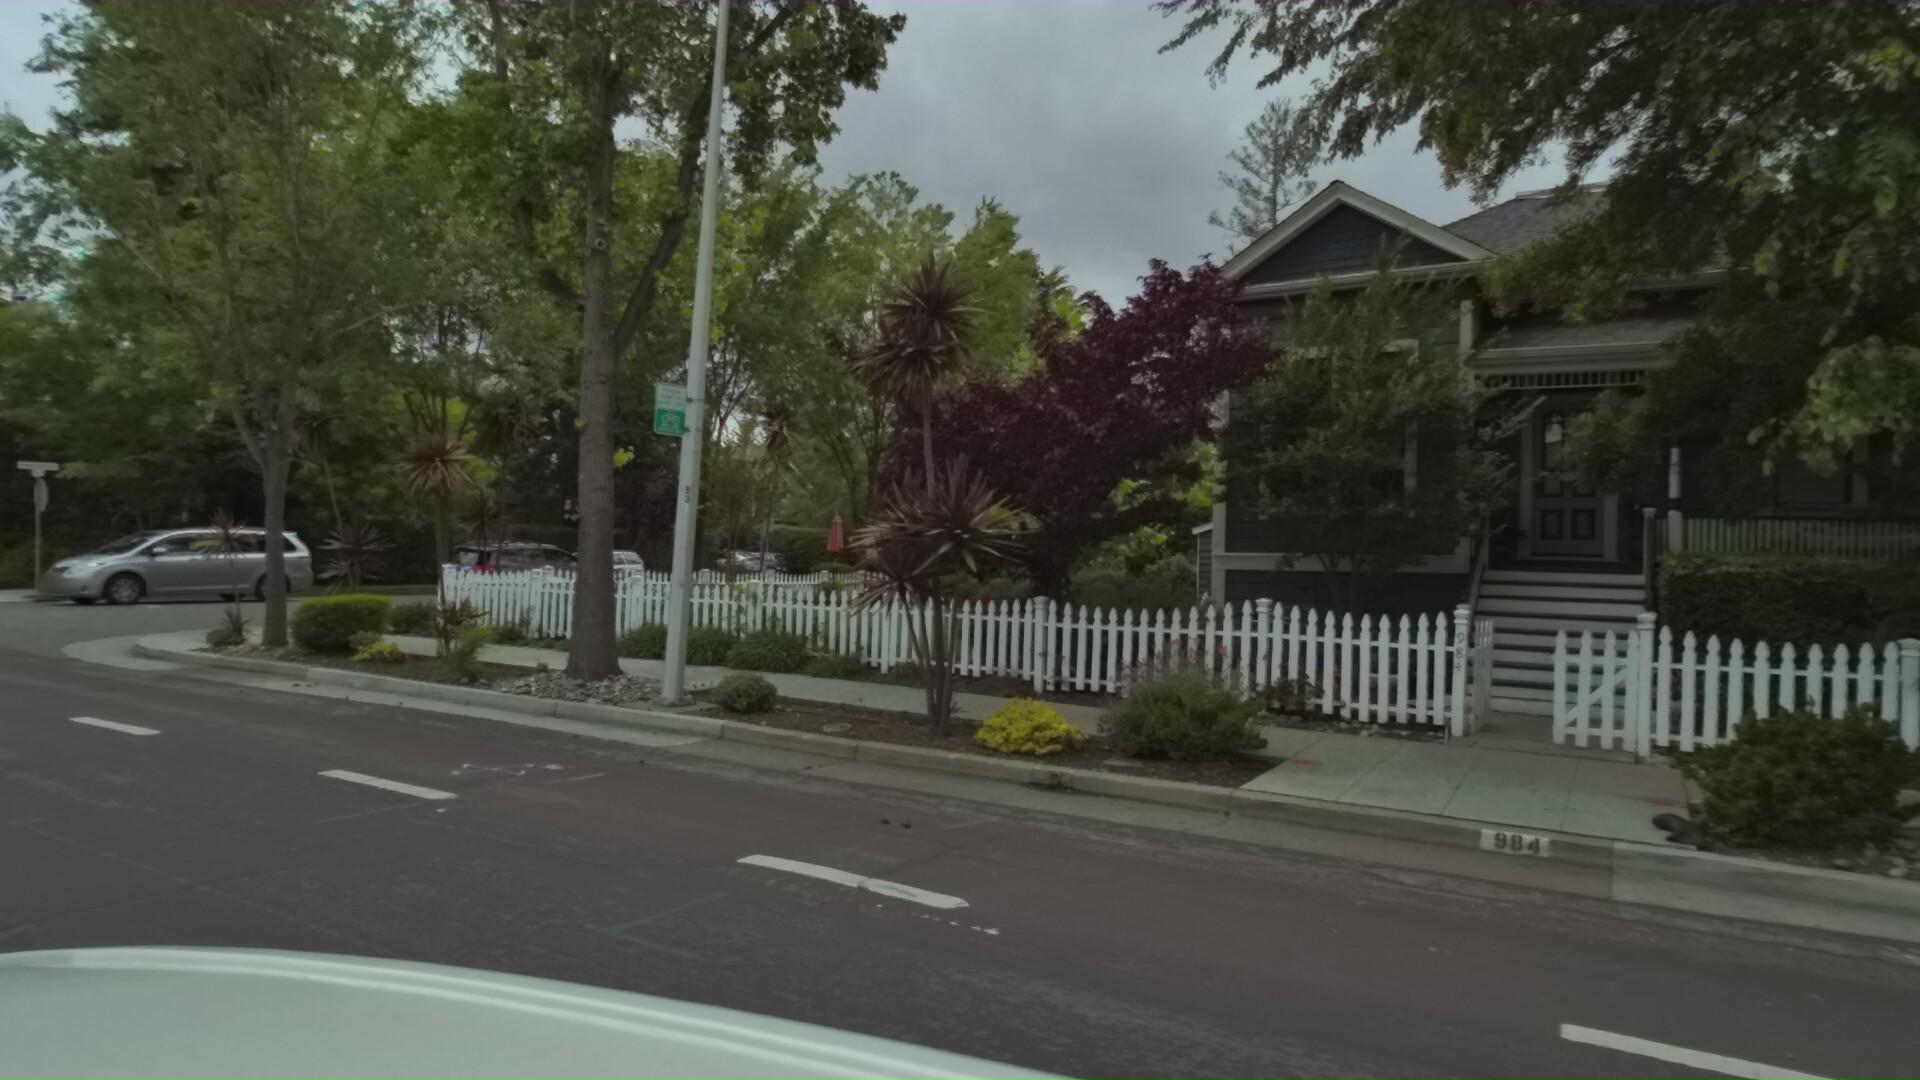car: (22, 524, 313, 607), (409, 535, 626, 620), (509, 545, 645, 592), (674, 546, 765, 579), (707, 547, 793, 579)
